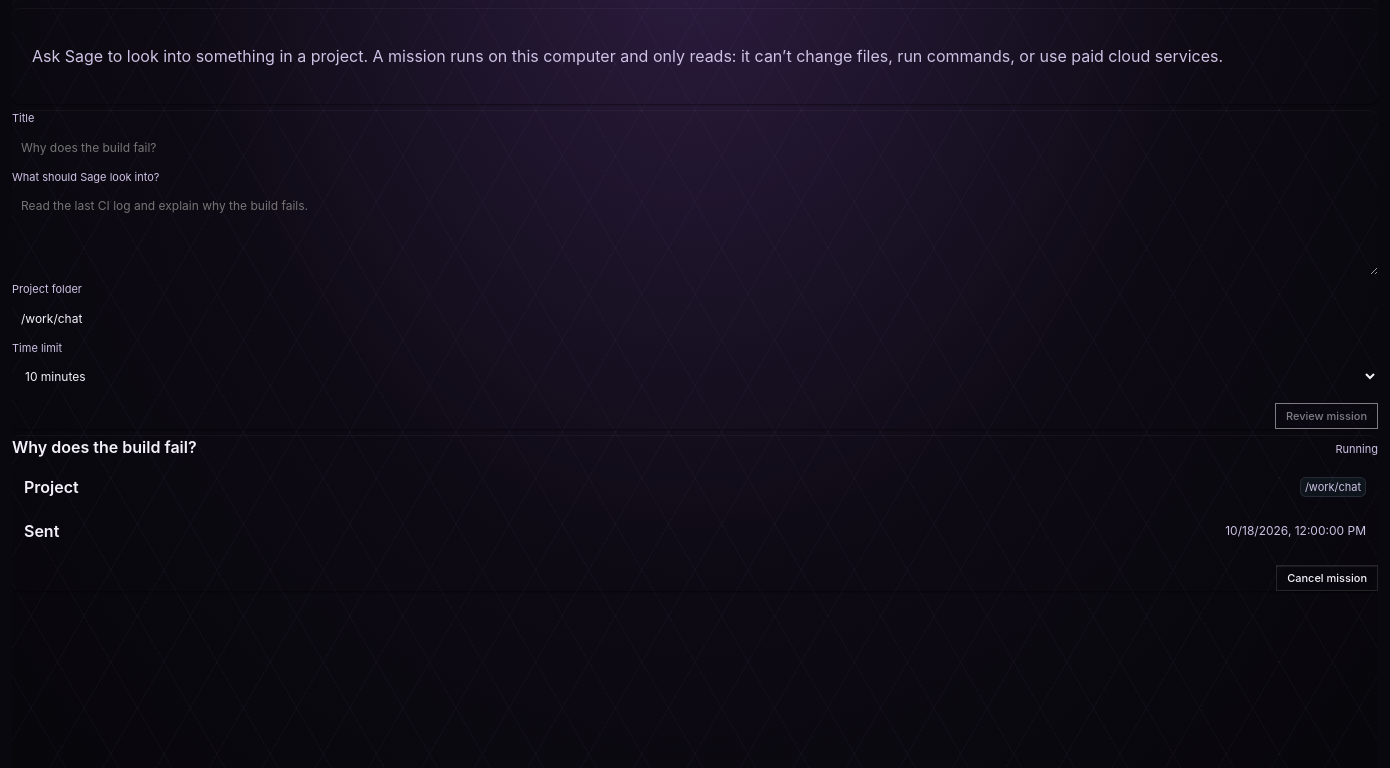
Test case: Missions tab › follows open missions, drops answers for another familiar, and cancels
Expected: the text "Running" is shown, [1336,441,1378,458]
Click the button "Cancel mission". click: (1327, 578)
box: [1276,565,1378,591]
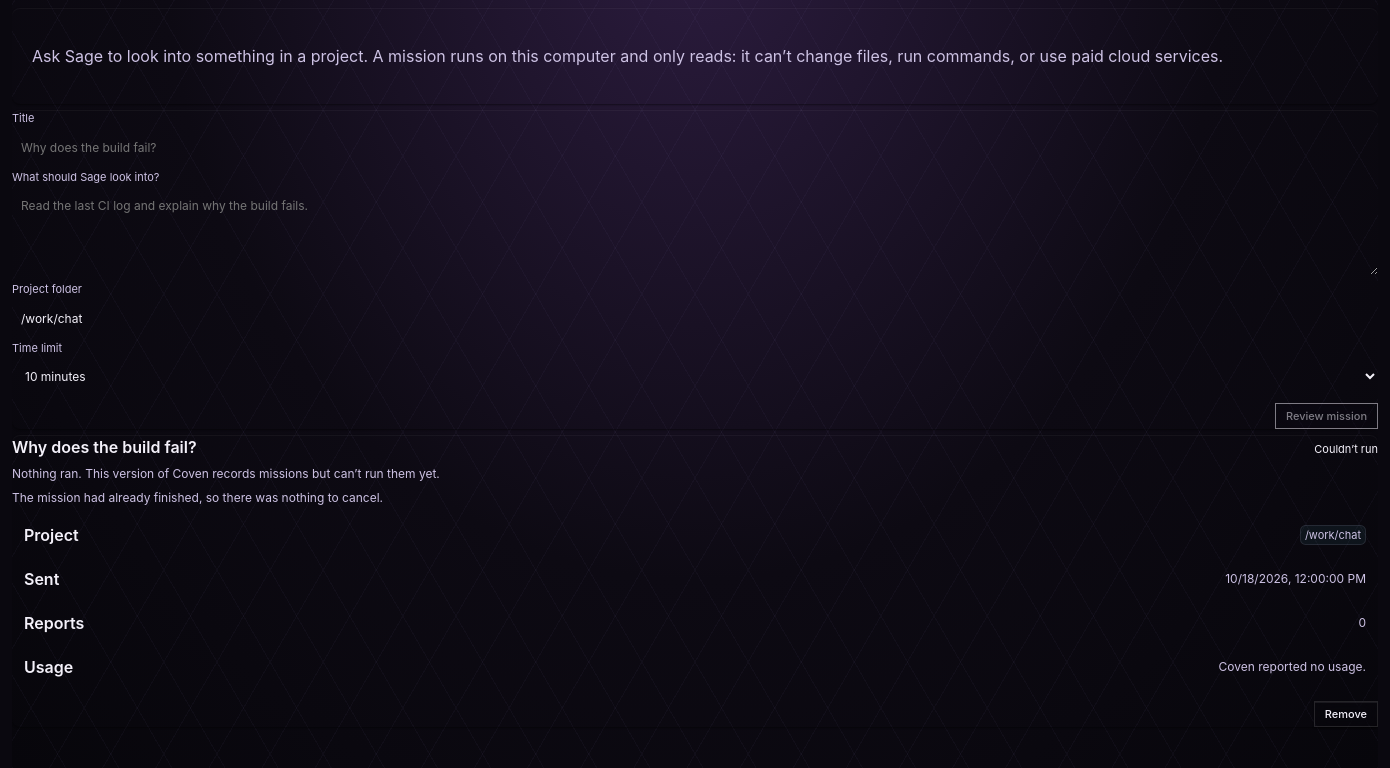
Expected: the text "The mission had already finished, so there was nothing to cancel." is shown, [12,490,383,505]
